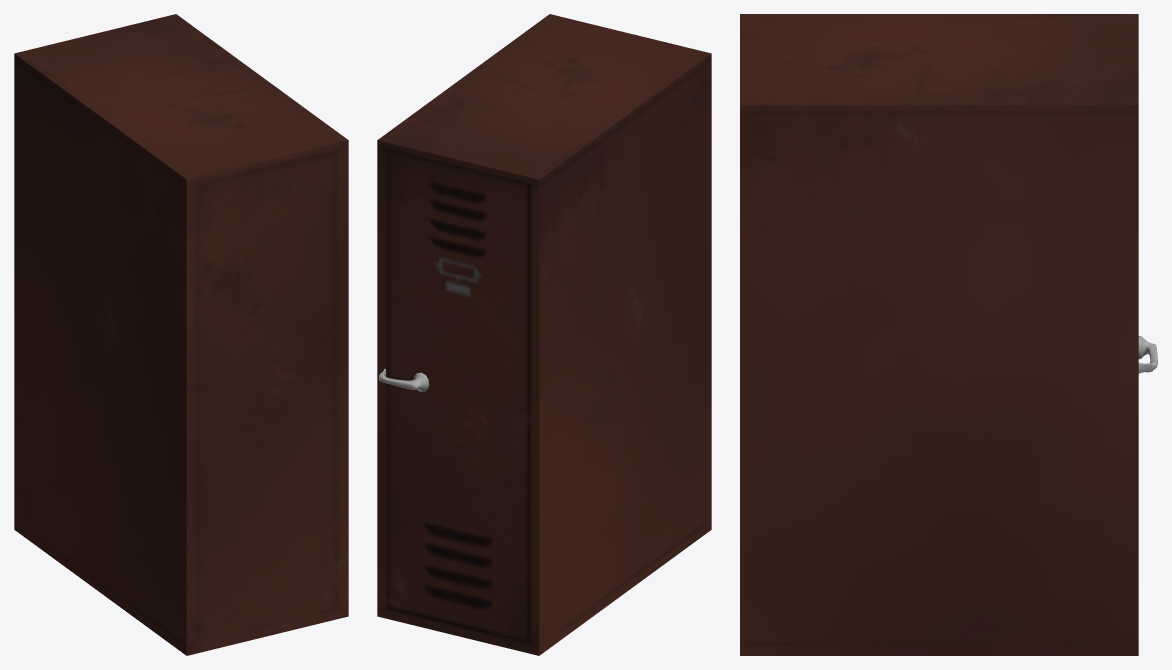
File: locker_thin.fbx
3 views of the same model, side by side, from view 1: azimuth 30°, elevation 25°; view 2: azimuth 150°, elevation 25°; view 3: azimuth 270°, elevation 25° (orthographic). The views are drawn at different scales.
Visible parts, largest first — view 1: lockerThin_mesh; view 2: lockerThin_mesh, handlemesh; view 3: lockerThin_mesh.
Part boxes in pixels (x1,y1,x2,y2): lockerThin_mesh: (14,14,348,655); lockerThin_mesh: (377,14,711,655); handlemesh: (380,372,428,391); lockerThin_mesh: (740,14,1138,655).
Size of the model in its own units: 41.48 by 117 by 80.26.
